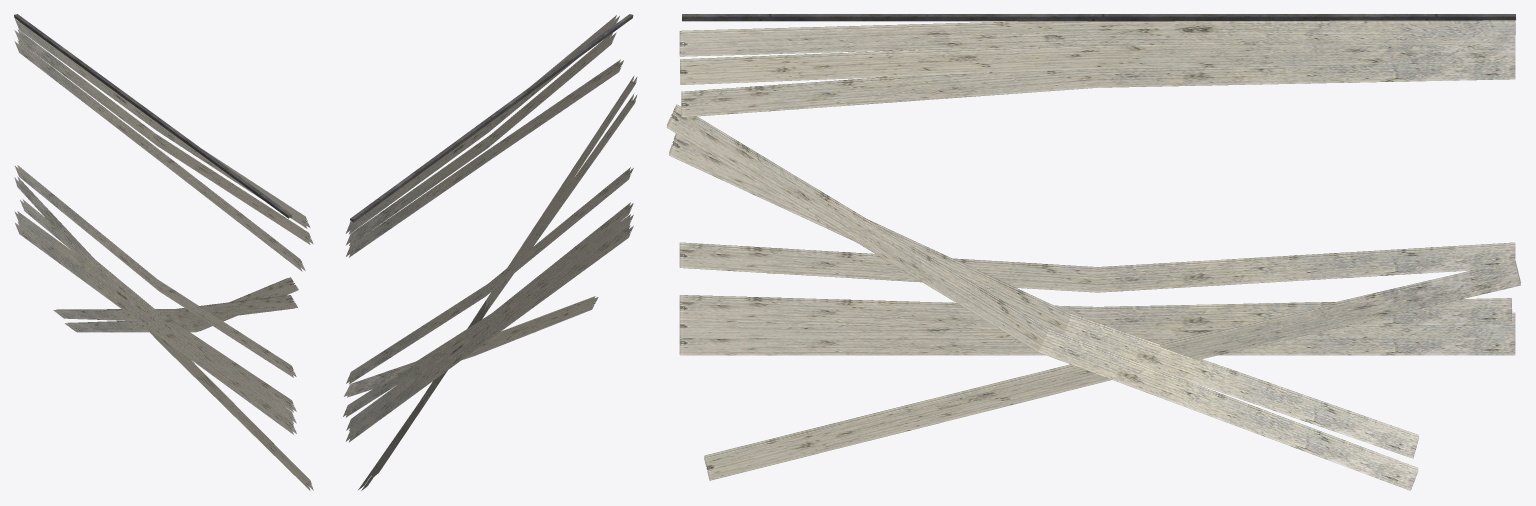
The model's file is M_Home_Garden_Blinds03.fbx.
3 views of the same model, side by side, from view 1: azimuth 30°, elevation 25°; view 2: azimuth 150°, elevation 25°; view 3: azimuth 270°, elevation 25° (orthographic). The views are drawn at different scales.
Parts seen in each view (by area): view 1: M_Home_Garden_Blinds03; view 2: M_Home_Garden_Blinds03; view 3: M_Home_Garden_Blinds03.
Boxes of the visible parts, <box> form: M_Home_Garden_Blinds03: <box>14,14,313,490</box>; M_Home_Garden_Blinds03: <box>343,14,637,490</box>; M_Home_Garden_Blinds03: <box>666,14,1520,490</box>.
Bounding box in the file's own units: 38.03 × 292 × 498.
